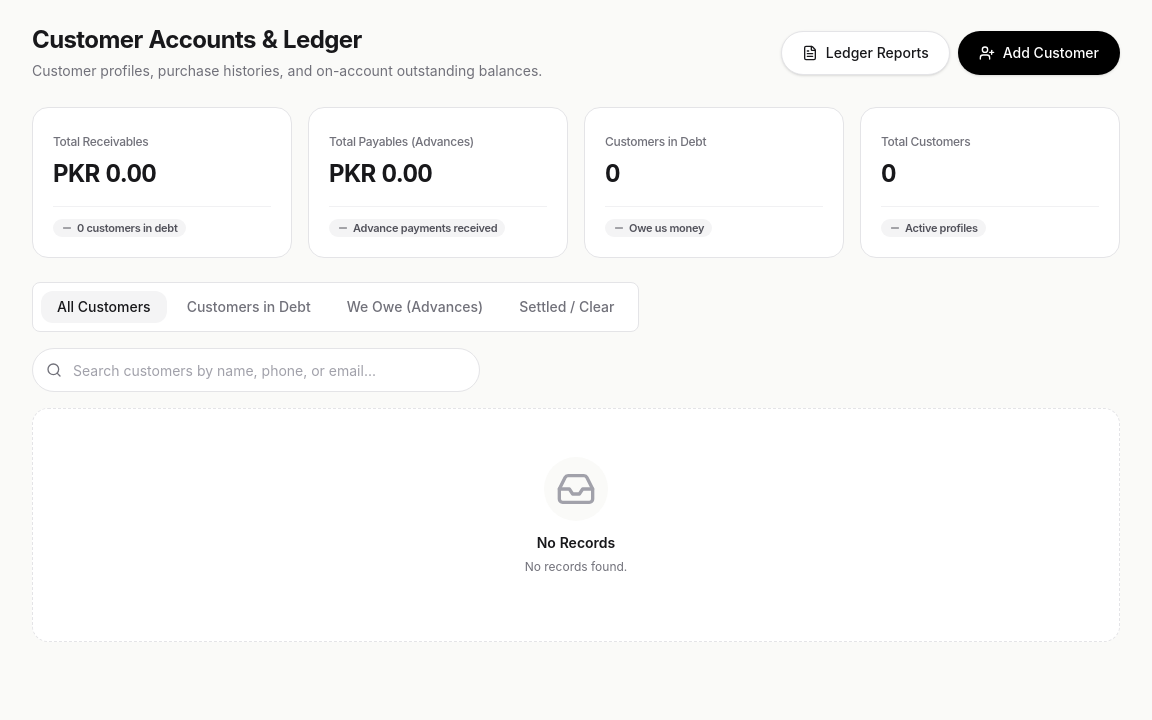
Test: customer form parity › surfaces a rejected create instead of closing the dialog silently
This screenshot has width=1152, height=720.
expect the heading "Customer Accounts & Ledger" is shown: met, box [32,25,362,54]
Click the button "Add Customer": (1039, 53) [958,31,1120,75]
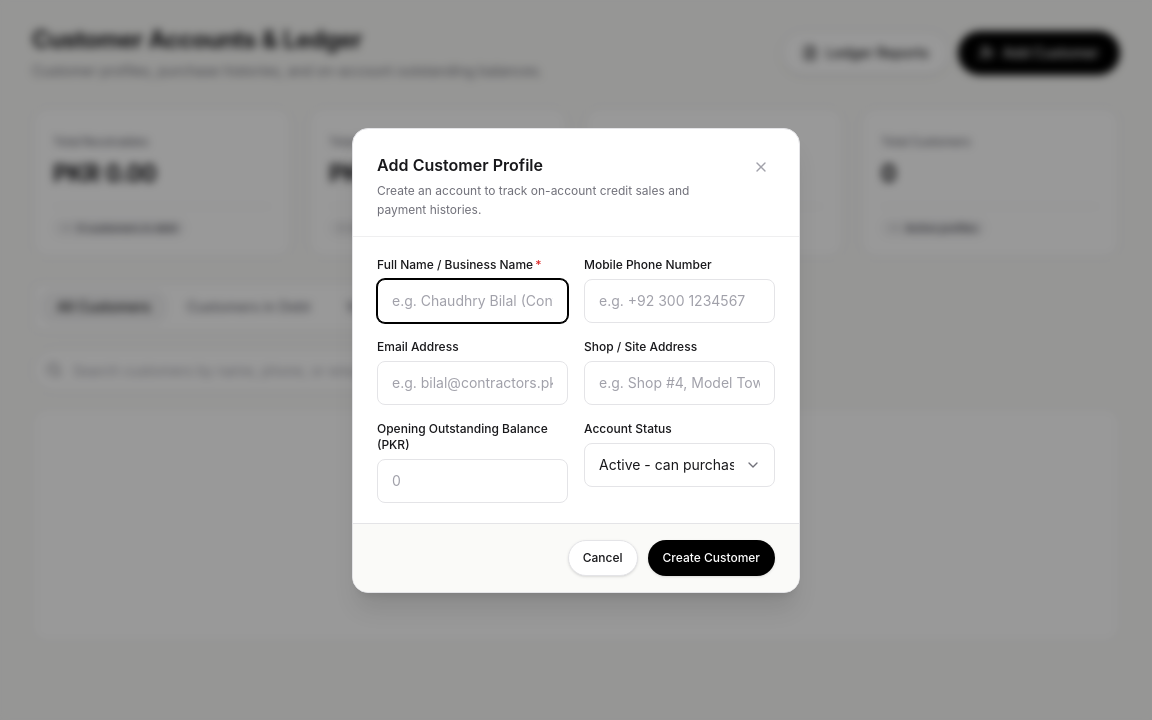
expect the heading "Add Customer Profile" is shown: met, box [377,154,543,174]
In the field with placeholder "e.g. Chaudhry Bilal (Contractor)": (472, 300) [377,278,568,322], type "Bilal Traders"
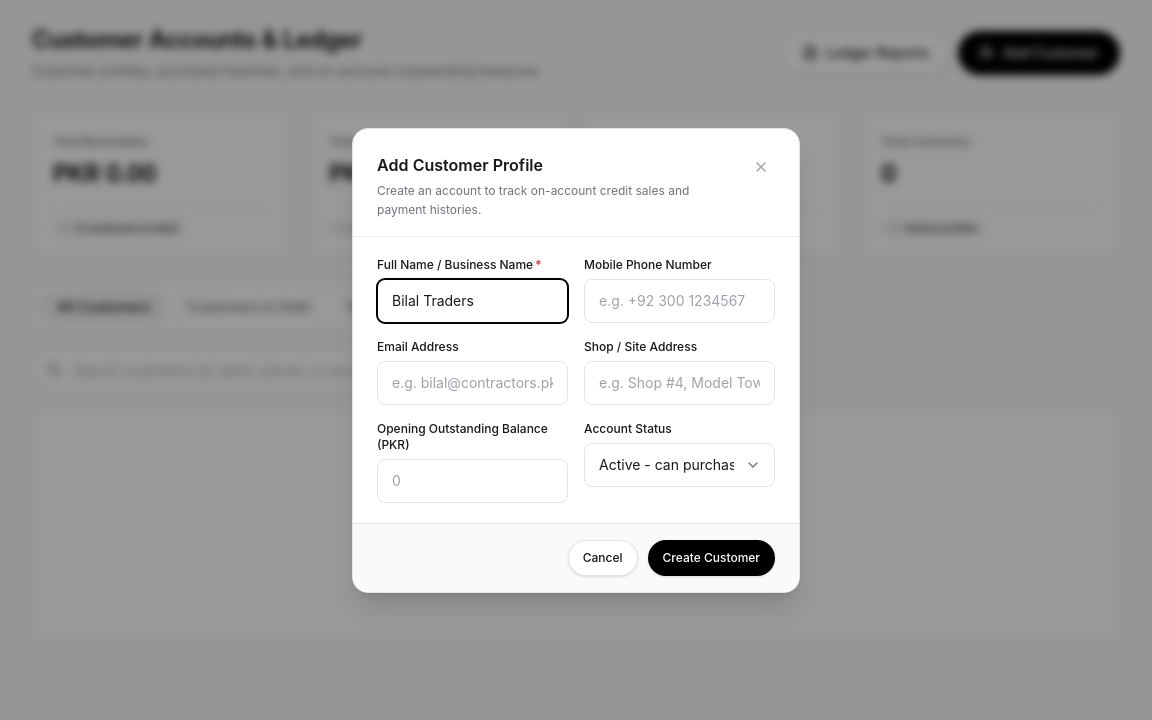
Click the button "Create Customer": (711, 558) [648,540,775,576]
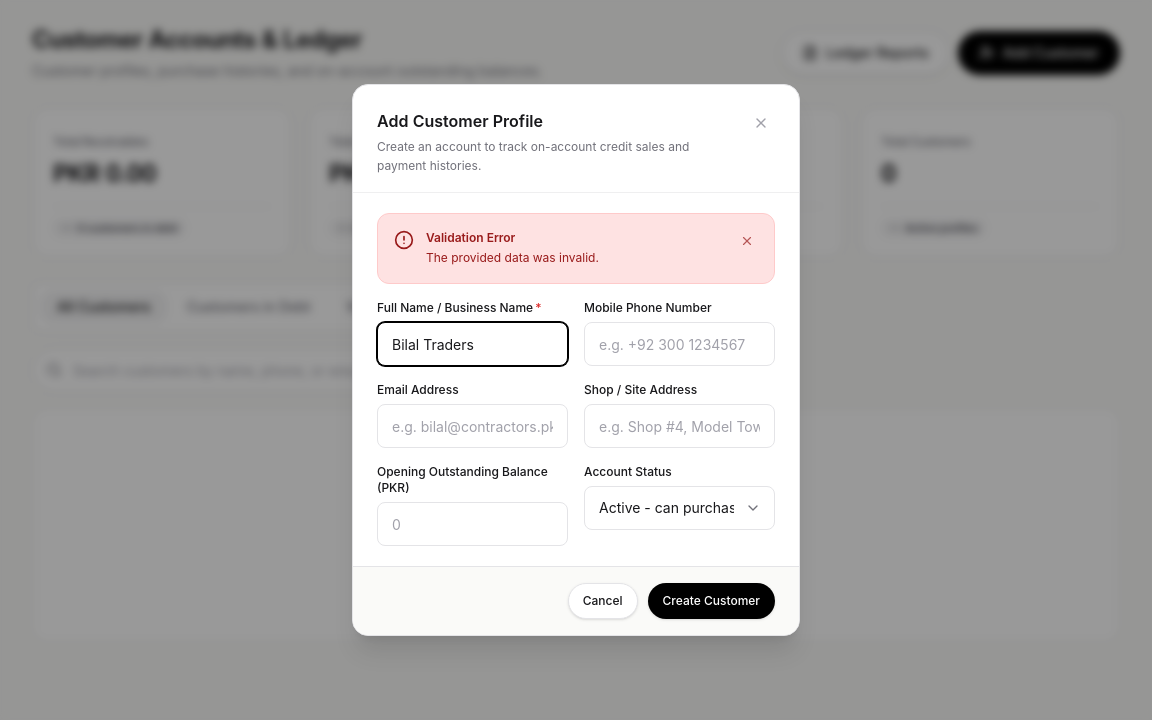
expect the heading "Add Customer Profile" is shown: met, box [377,111,543,131]
expect the text "The provided data was invalid." is shown: met, box [426,250,599,265]
